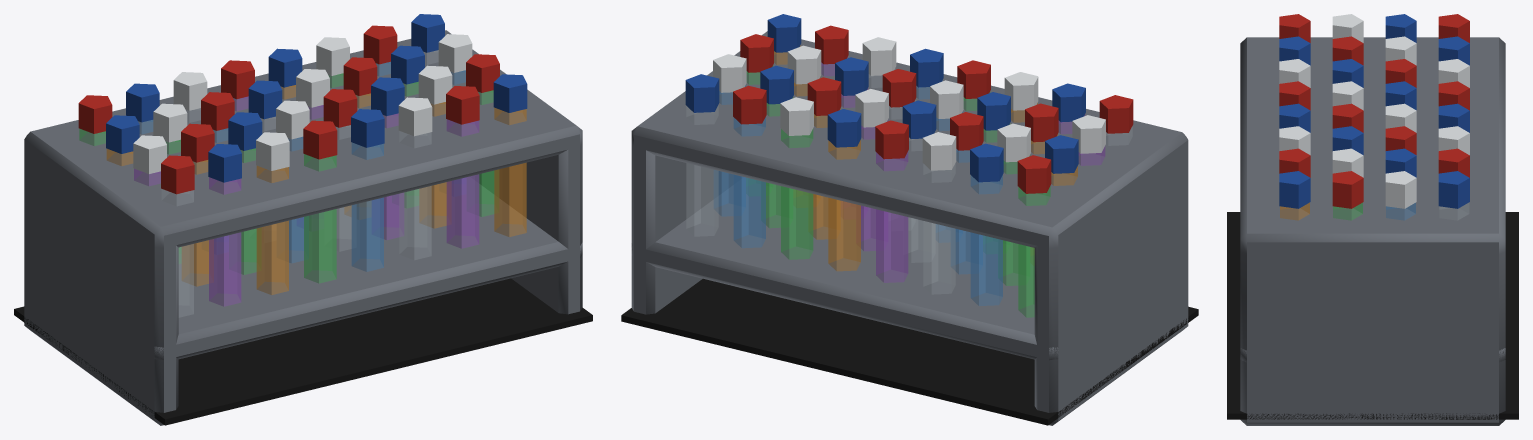
The model's file is specimen_vial_rack.glb.
3 renders of one model, left to right at view 1: azimuth 30°, elevation 25°; view 2: azimuth 150°, elevation 25°; view 3: azimuth 270°, elevation 25°, orthographic. The views are drawn at different scales.
Parts seen in each view (by area): view 1: specimen_vial_rack; view 2: specimen_vial_rack; view 3: specimen_vial_rack.
Boxes of the visible parts, box(x1,y1,x2,y2) form: specimen_vial_rack: box(14, 14, 592, 425); specimen_vial_rack: box(621, 14, 1198, 425); specimen_vial_rack: box(1227, 14, 1518, 425).
Bounding box in the file's own units: 0.36 × 0.19 × 0.22.
